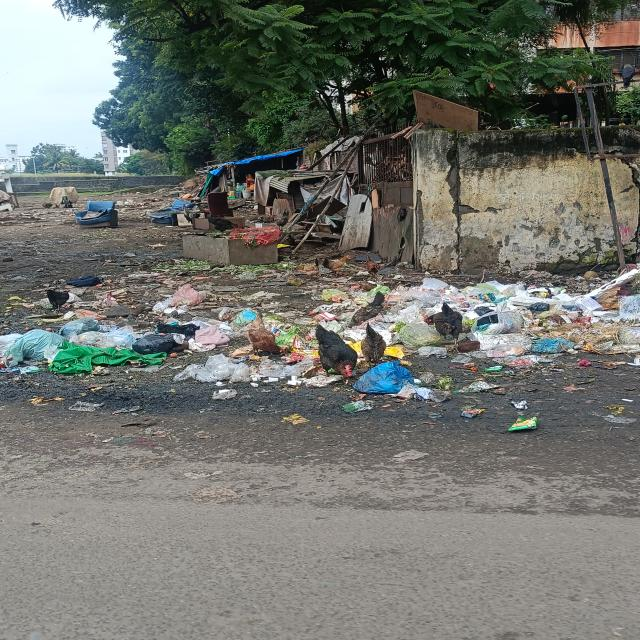garbage: (315, 276, 640, 398), (4, 296, 309, 391)
